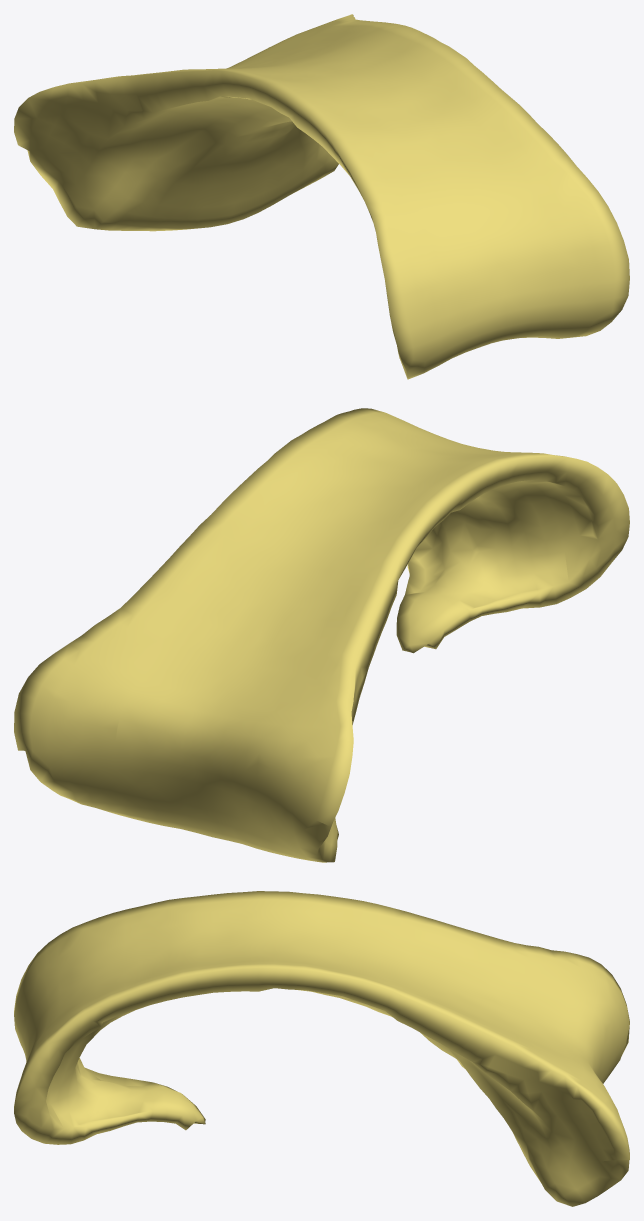
File: corpus-callosum.glb
3 renders of one model, top to bottom at view 1: azimuth 30°, elevation 25°; view 2: azimuth 150°, elevation 25°; view 3: azimuth 270°, elevation 25°, orthographic. The views are drawn at different scales.
Visible parts, largest first — view 1: Corpus callosum; view 2: Corpus callosum; view 3: Corpus callosum.
Part boxes in pixels (box(x1,y1,x2,y2)): Corpus callosum: box(14, 14, 629, 379); Corpus callosum: box(14, 408, 629, 862); Corpus callosum: box(14, 891, 629, 1206).
Bounding box in the file's own units: 0.05 × 0.0377 × 0.0888.
